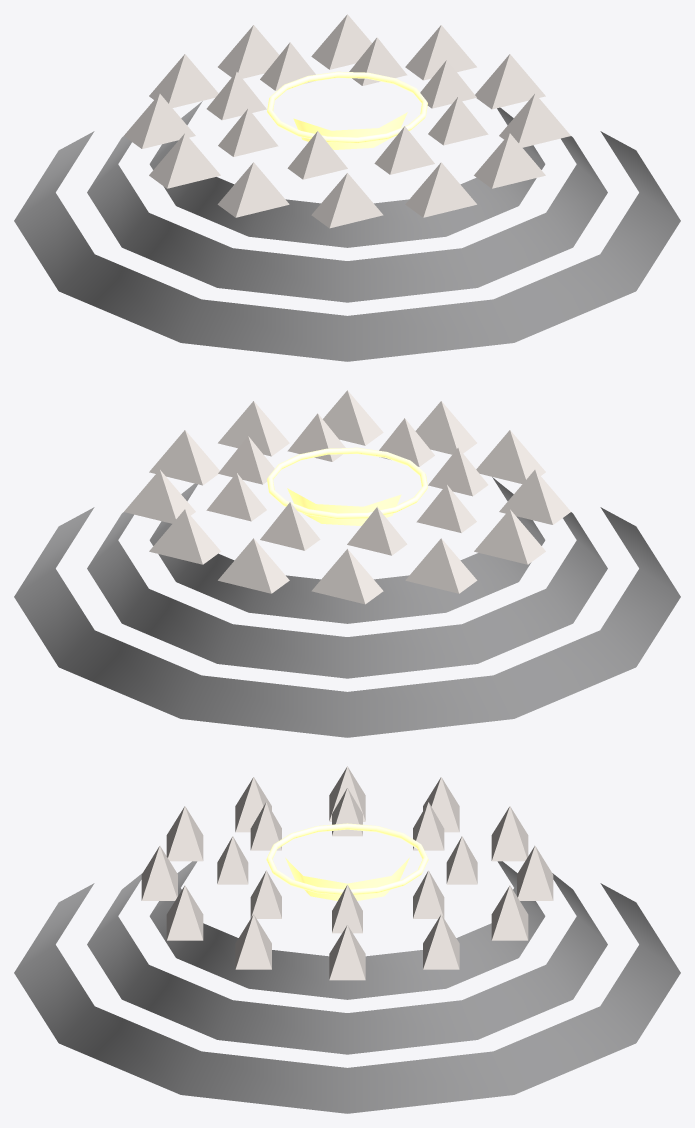
File: thousand_petal_lotus.glb
The picture shows the model from 3 angles, top to bottom: view 1: azimuth 30°, elevation 25°; view 2: azimuth 150°, elevation 25°; view 3: azimuth 270°, elevation 25°; orthographic projection.
Parts seen in each view (by area): view 1: RootNode; view 2: RootNode; view 3: RootNode.
Part boxes in pixels (box(x1,y1,x2,y2)): RootNode: box(14, 14, 680, 361); RootNode: box(14, 390, 680, 737); RootNode: box(14, 766, 680, 1113).
Bounding box in the file's own units: 6.4 × 1.45 × 6.4.
